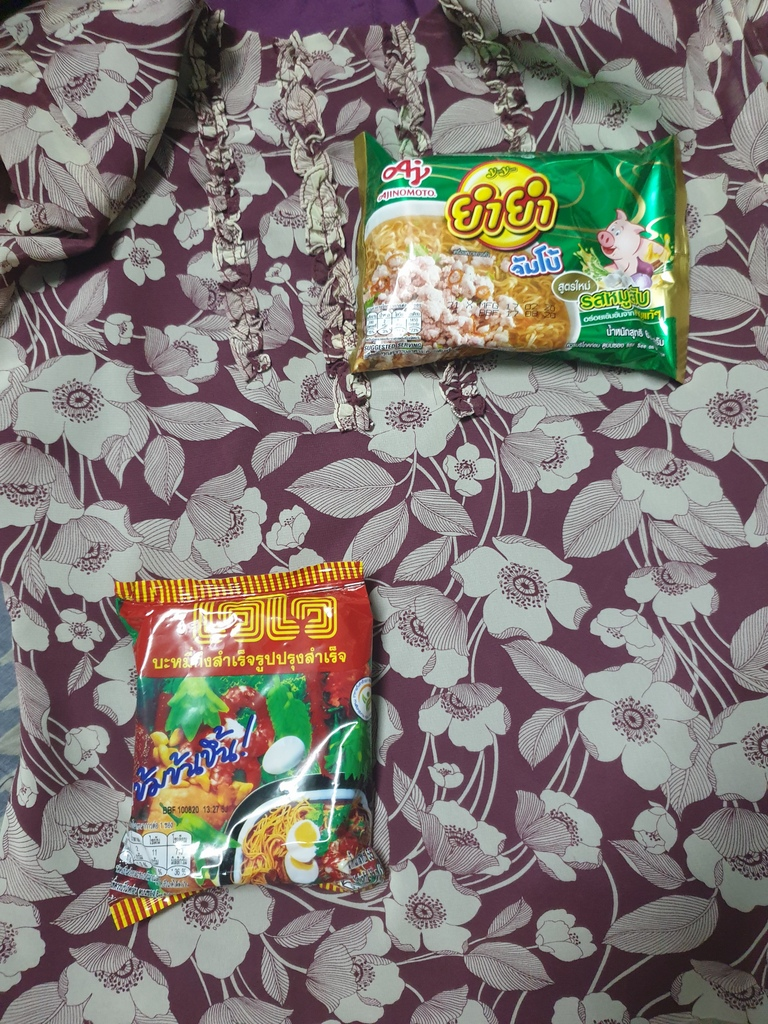waiwai: (110, 572, 400, 906)
yumyum: (354, 131, 694, 383)
